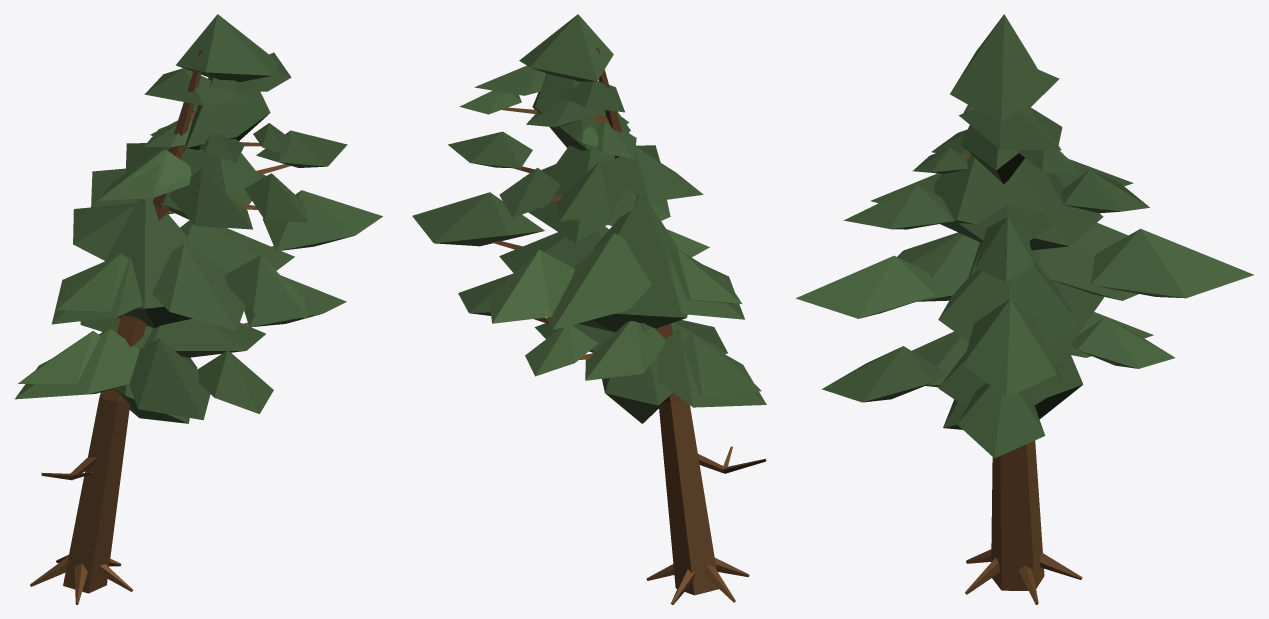
Rendered from pine-05-far.glb.
3 views of the same model, side by side, from view 1: azimuth 30°, elevation 25°; view 2: azimuth 150°, elevation 25°; view 3: azimuth 270°, elevation 25° (orthographic). The views are drawn at different scales.
Parts seen in each view (by area): view 1: pine-05-far; view 2: pine-05-far; view 3: pine-05-far.
Part boxes in pixels (x1,y1,x2,y2): pine-05-far: (15,14,382,604); pine-05-far: (412,14,766,604); pine-05-far: (796,14,1253,604).
Size of the model in its own units: 4.9 by 7 by 4.54.
